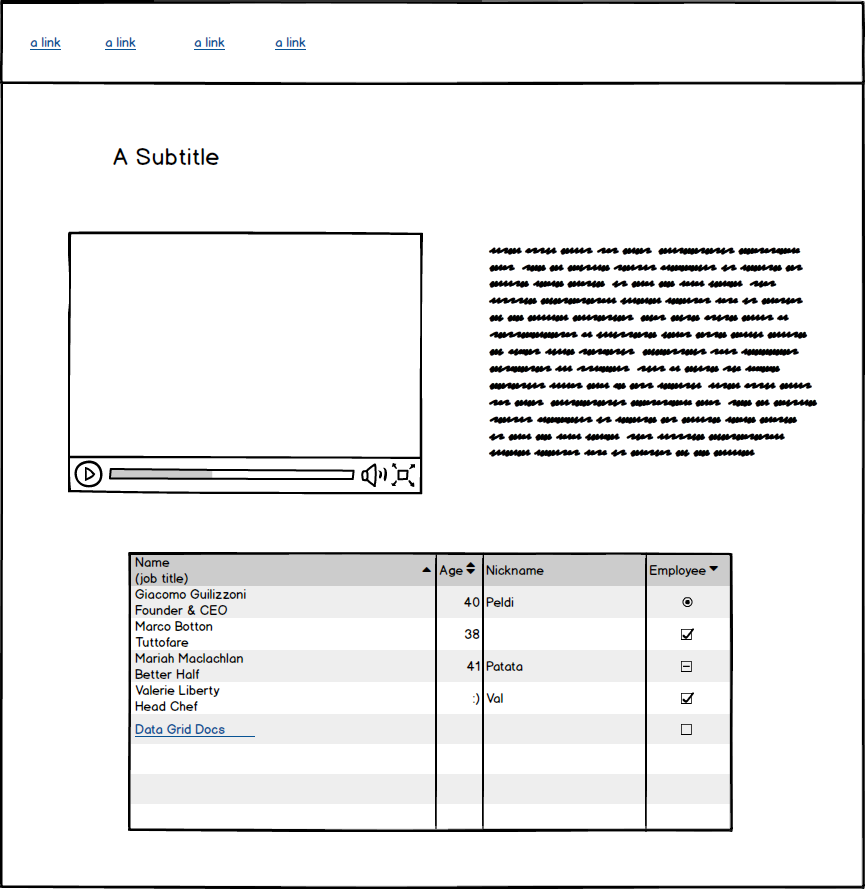h1: (102, 136, 229, 174)
navlink: (188, 25, 238, 62), (99, 27, 147, 56), (268, 28, 317, 56), (21, 29, 71, 56)
p: (484, 238, 822, 466)
table: (122, 546, 740, 842)
video: (61, 225, 432, 501)
